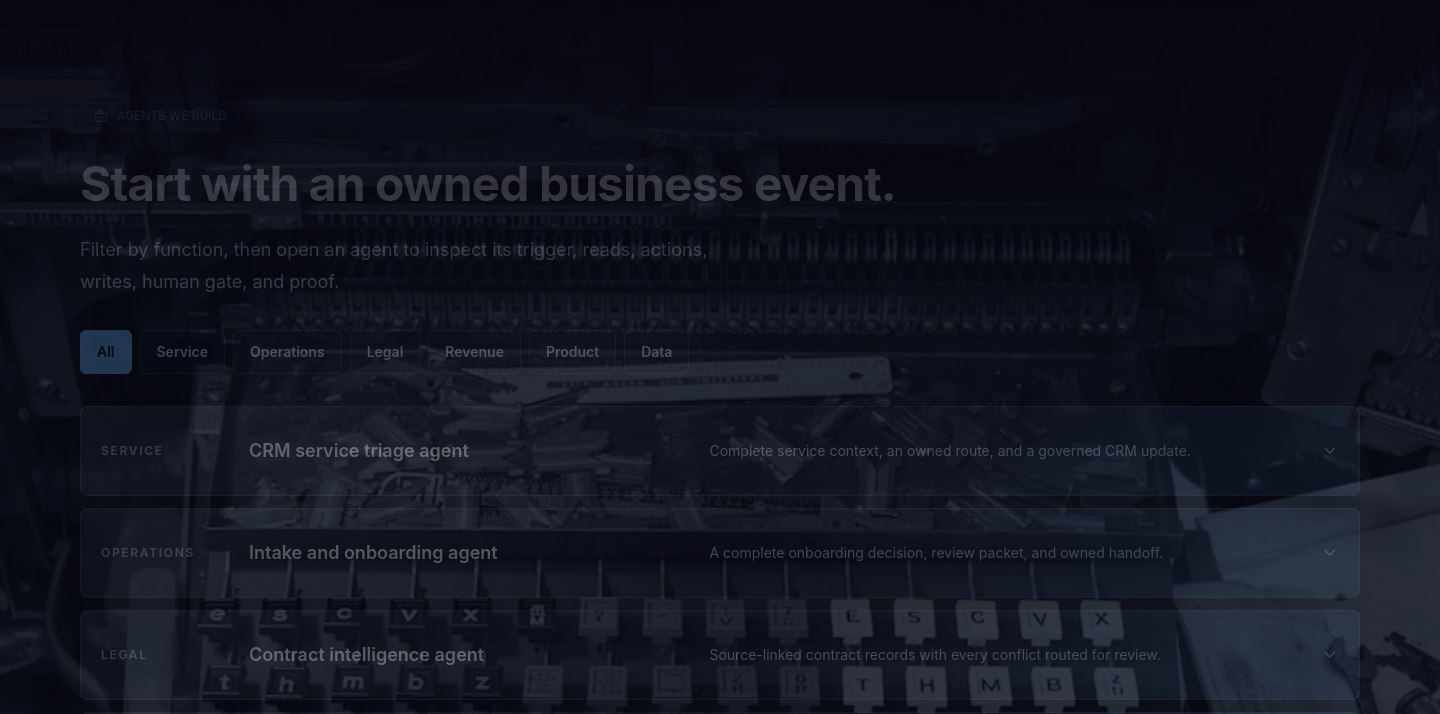
Test: AgentCatalog › keeps filter and one-open accordion state in sync
Click the button "CRM service triage agent" at (720, 451), box [81,407,1359,495]
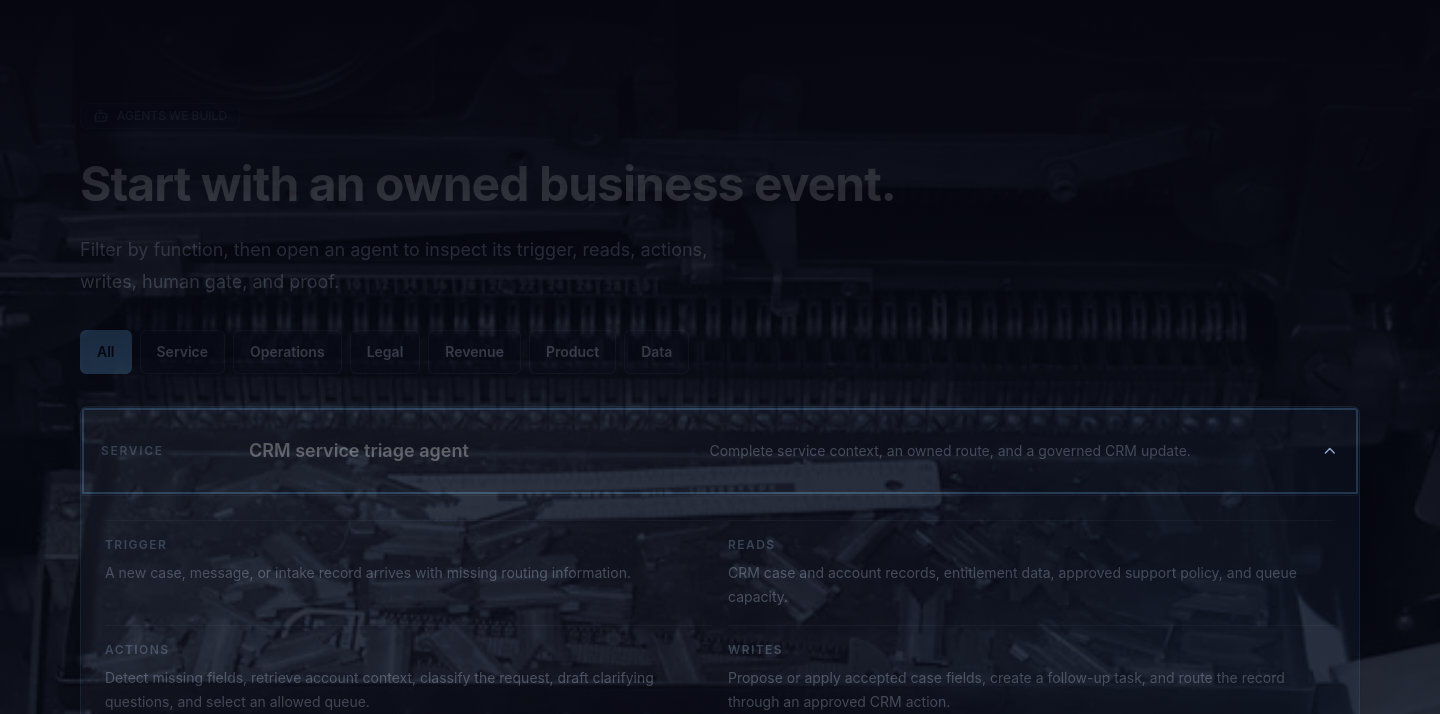
Now the button "CRM service triage agent" is expanded, box [81,407,1359,495]
Click the button "Product" at (572, 352), box [529,330,616,374]
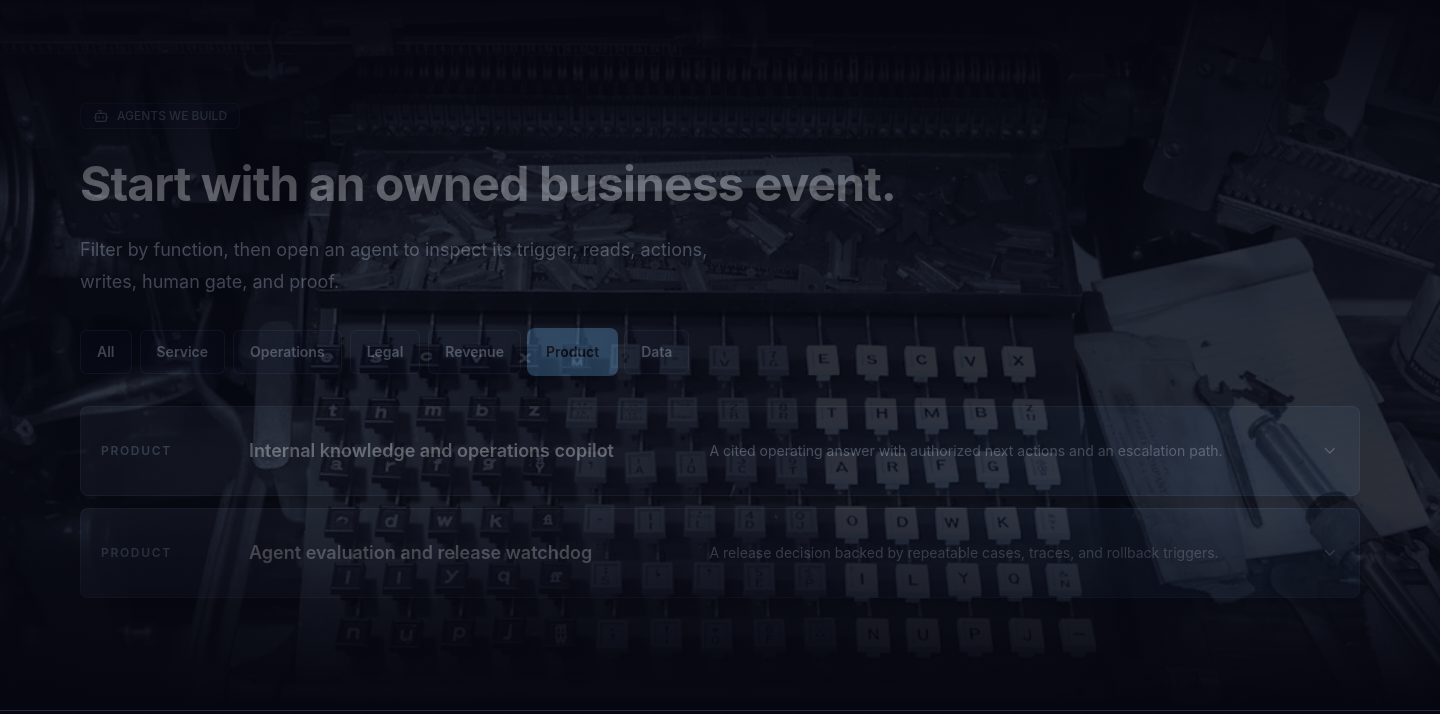
Now the button "CRM service triage agent" is gone
Click the button "Internal knowledge and operations copilot" at (720, 451), box [81,407,1359,495]
(page scrolled)
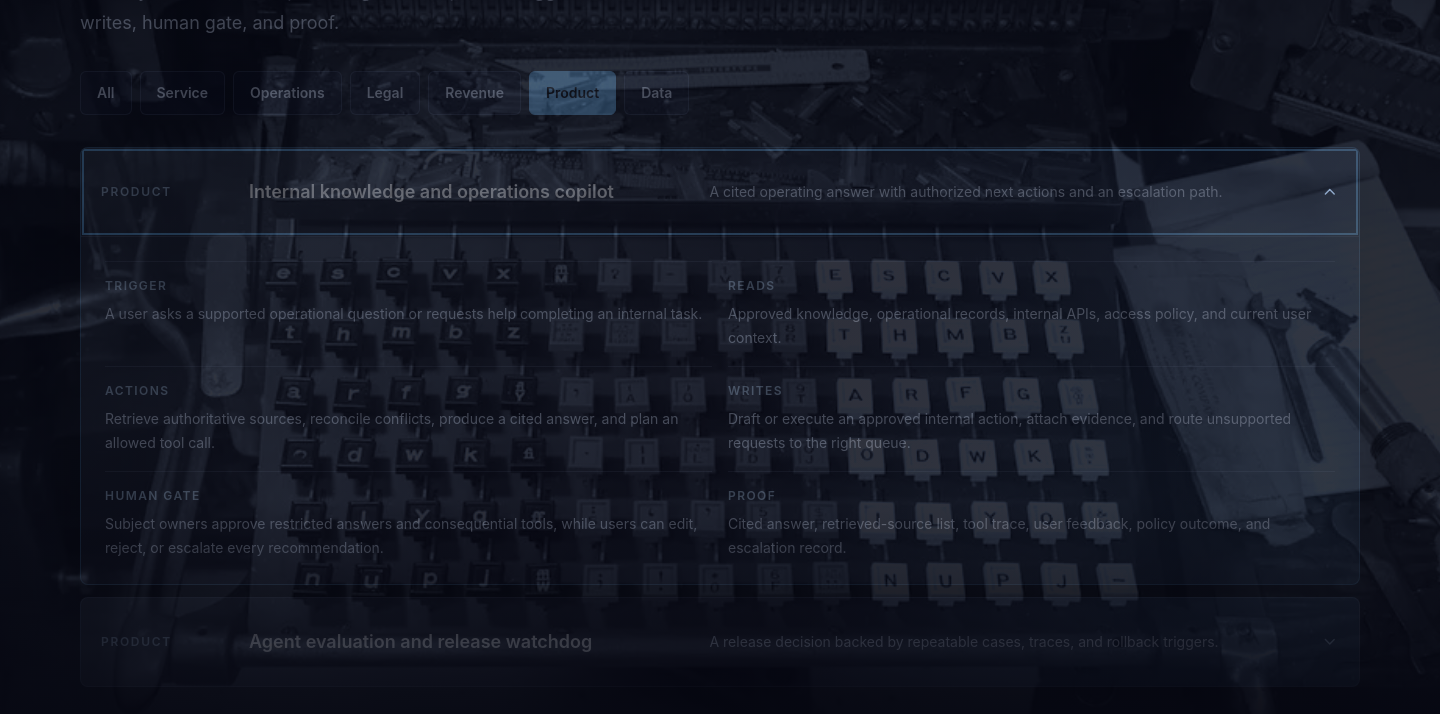
Click the button "Agent evaluation and release watchdog" at (720, 642), box [81,598,1359,686]
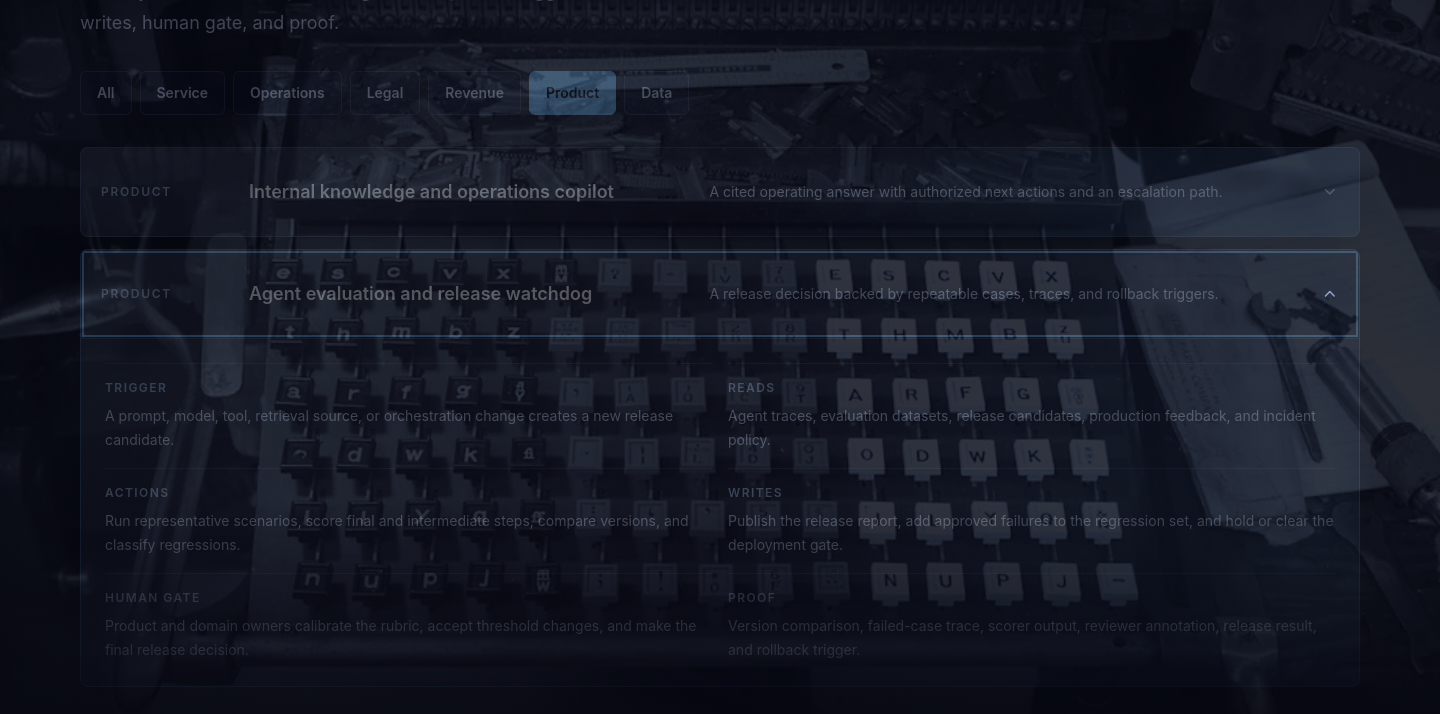
Now the button "Internal knowledge and operations copilot" is collapsed, box [81,148,1359,236]
Now the button "Agent evaluation and release watchdog" is expanded, box [81,250,1359,338]
